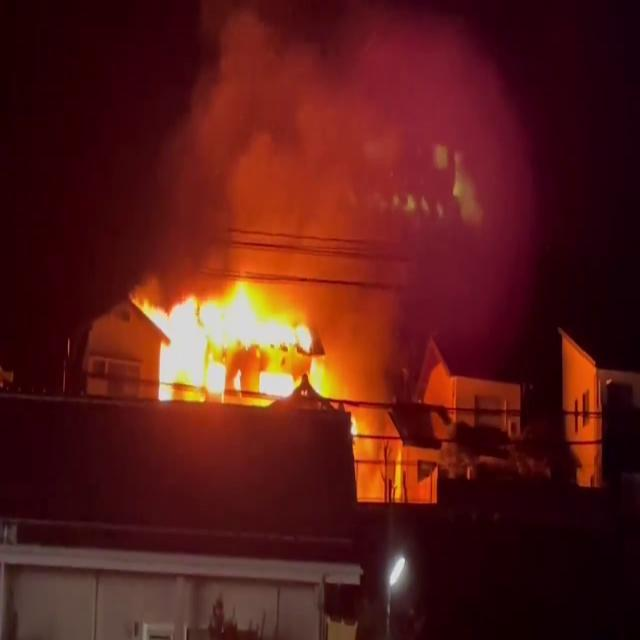Fire: (132, 270, 334, 409)
Smoke: (154, 1, 557, 323)
